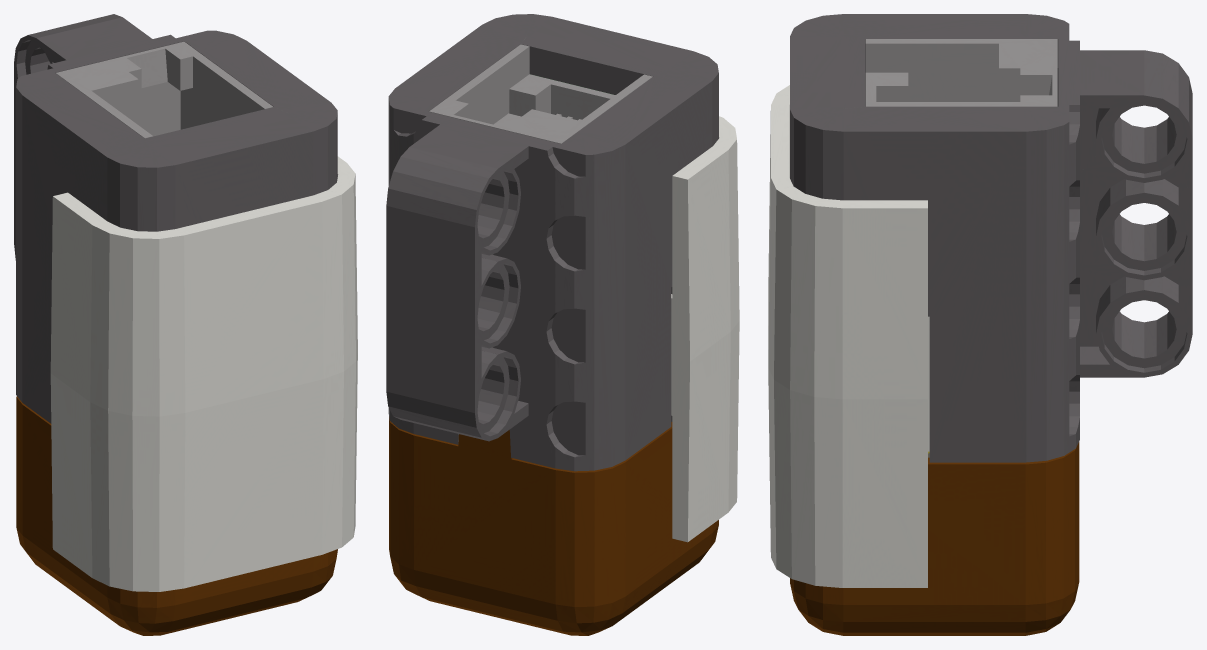
The model's file is rfid_sensor_MS1048.dae.
3 renders of one model, left to right at view 1: azimuth 30°, elevation 25°; view 2: azimuth 150°, elevation 25°; view 3: azimuth 270°, elevation 25°, orthographic. The views are drawn at different scales.
Parts seen in each view (by area): view 1: node; view 2: node; view 3: node.
Boxes of the visible parts, box(x1,y1,x2,y2) form: node: box(14, 14, 357, 635); node: box(386, 14, 739, 635); node: box(768, 14, 1192, 635).
Bounding box in the file's own units: 59.5 × 106 × 78.5.
Materials: 1 (1 with a texture image).
